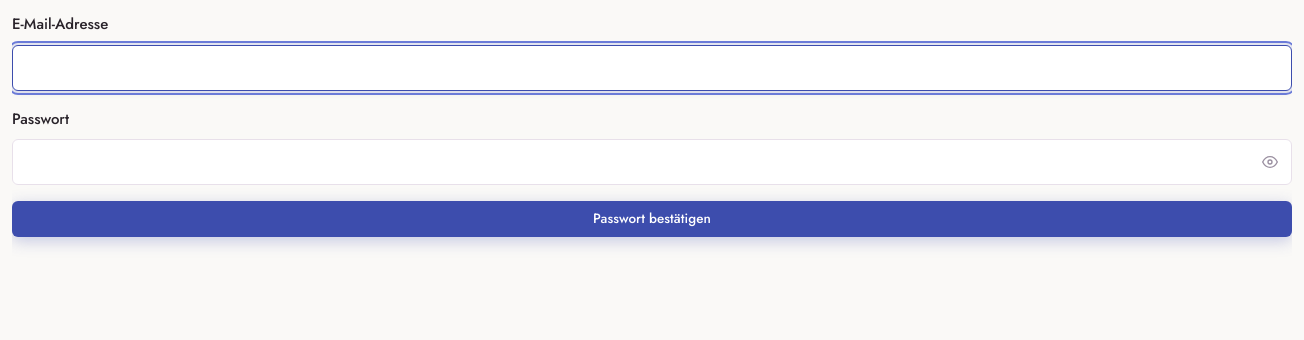
Test case: SignInSteps - step 1 › shows the server text on a 401, keeps email and password, and stays on step 1
In the field labelled "E-Mail-Adresse": coordinates (652, 68) [12,45,1292,91], type "op@example.invalid"
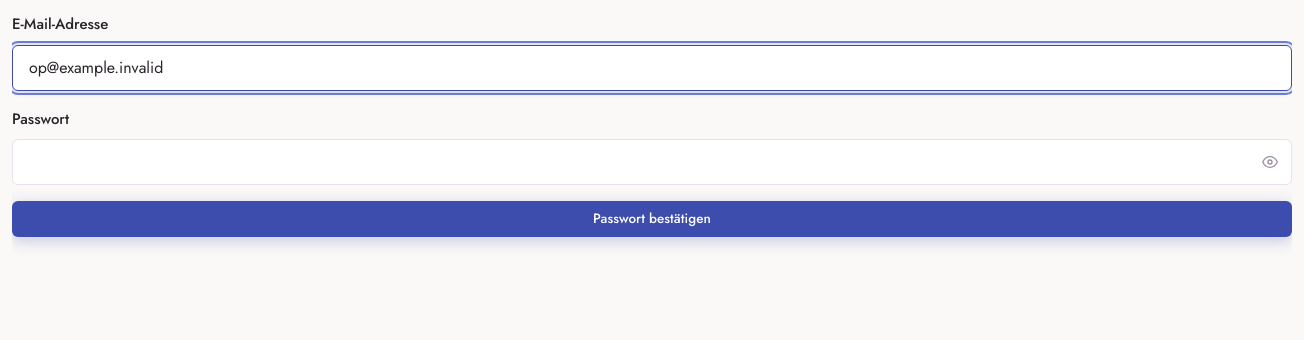
In the password field labelled "Passwort": coordinates (652, 162) [12,139,1292,185], type "wrong"
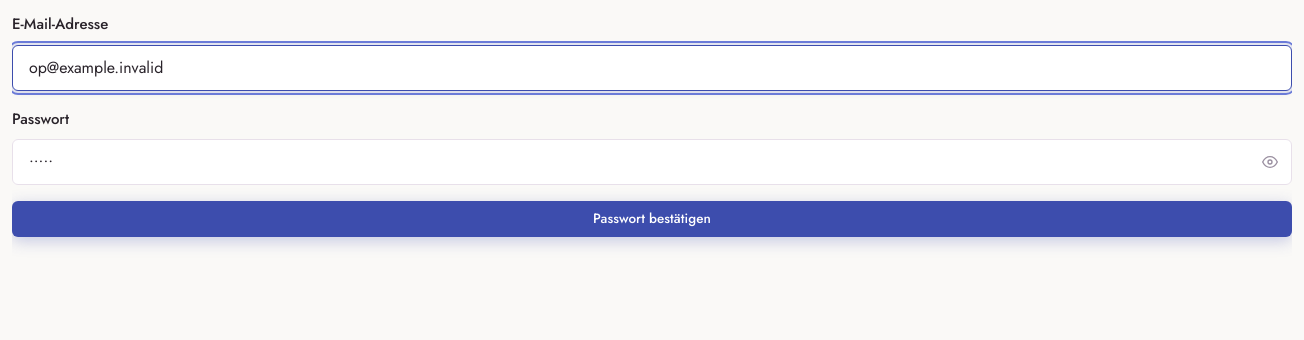
Submit the form
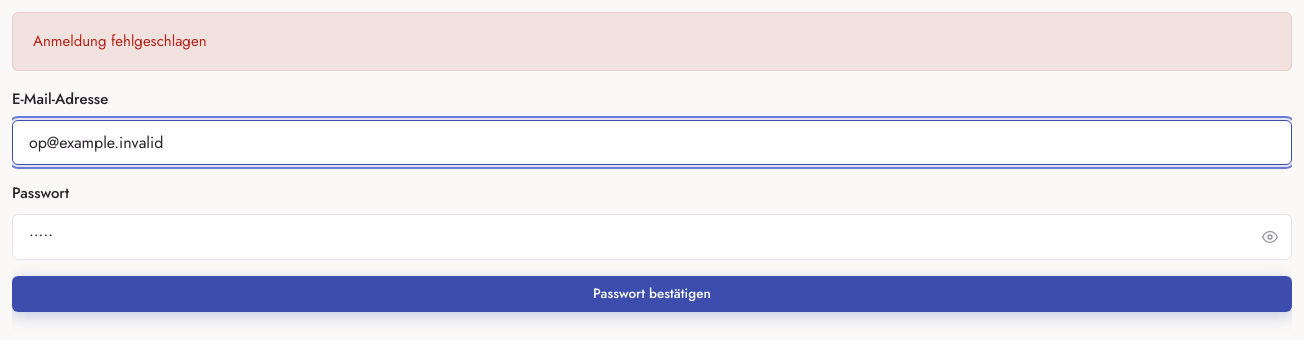
Expected: the text "Anmeldung fehlgeschlagen" is shown, [33,29,206,54]
